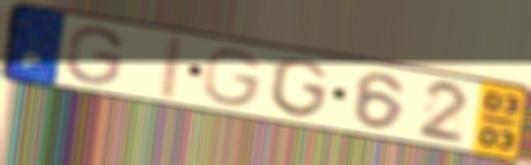2: (414, 80, 472, 148)
6: (354, 71, 412, 131)
G: (62, 24, 127, 88), (201, 46, 267, 109), (267, 56, 331, 120)
I: (154, 32, 189, 103)
